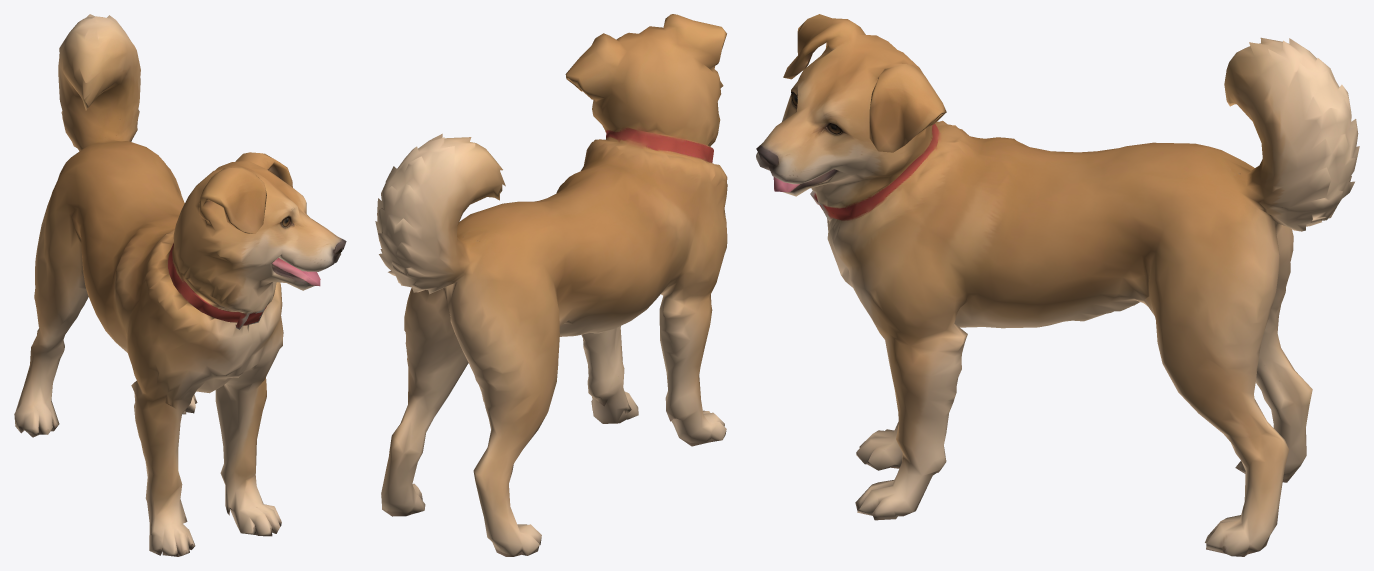
Rendered from CHR_OTHER_NPCS_DOG_v001_RAW.glb.
3 renders of one model, left to right at view 1: azimuth 30°, elevation 25°; view 2: azimuth 150°, elevation 25°; view 3: azimuth 270°, elevation 25°, orthographic. The views are drawn at different scales.
Parts seen in each view (by area): view 1: tripo_node_c5f857da-12da-4ce6-8b1f-59cdafa852c6; view 2: tripo_node_c5f857da-12da-4ce6-8b1f-59cdafa852c6; view 3: tripo_node_c5f857da-12da-4ce6-8b1f-59cdafa852c6.
Part boxes in pixels (box(x1,y1,x2,y2)): tripo_node_c5f857da-12da-4ce6-8b1f-59cdafa852c6: box(14, 14, 346, 556); tripo_node_c5f857da-12da-4ce6-8b1f-59cdafa852c6: box(375, 14, 727, 556); tripo_node_c5f857da-12da-4ce6-8b1f-59cdafa852c6: box(756, 14, 1359, 556).
Bounding box in the file's own units: 0.4323 × 0.8514 × 0.9795.
Materials: 1 (1 with a texture image).
